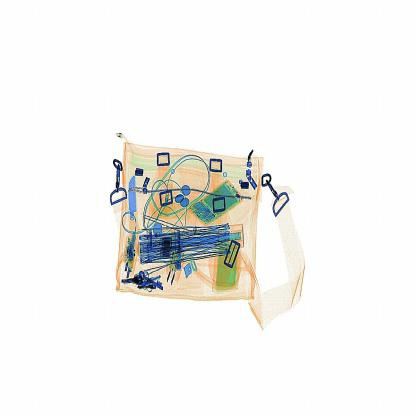wrench: (126, 170, 140, 250)
